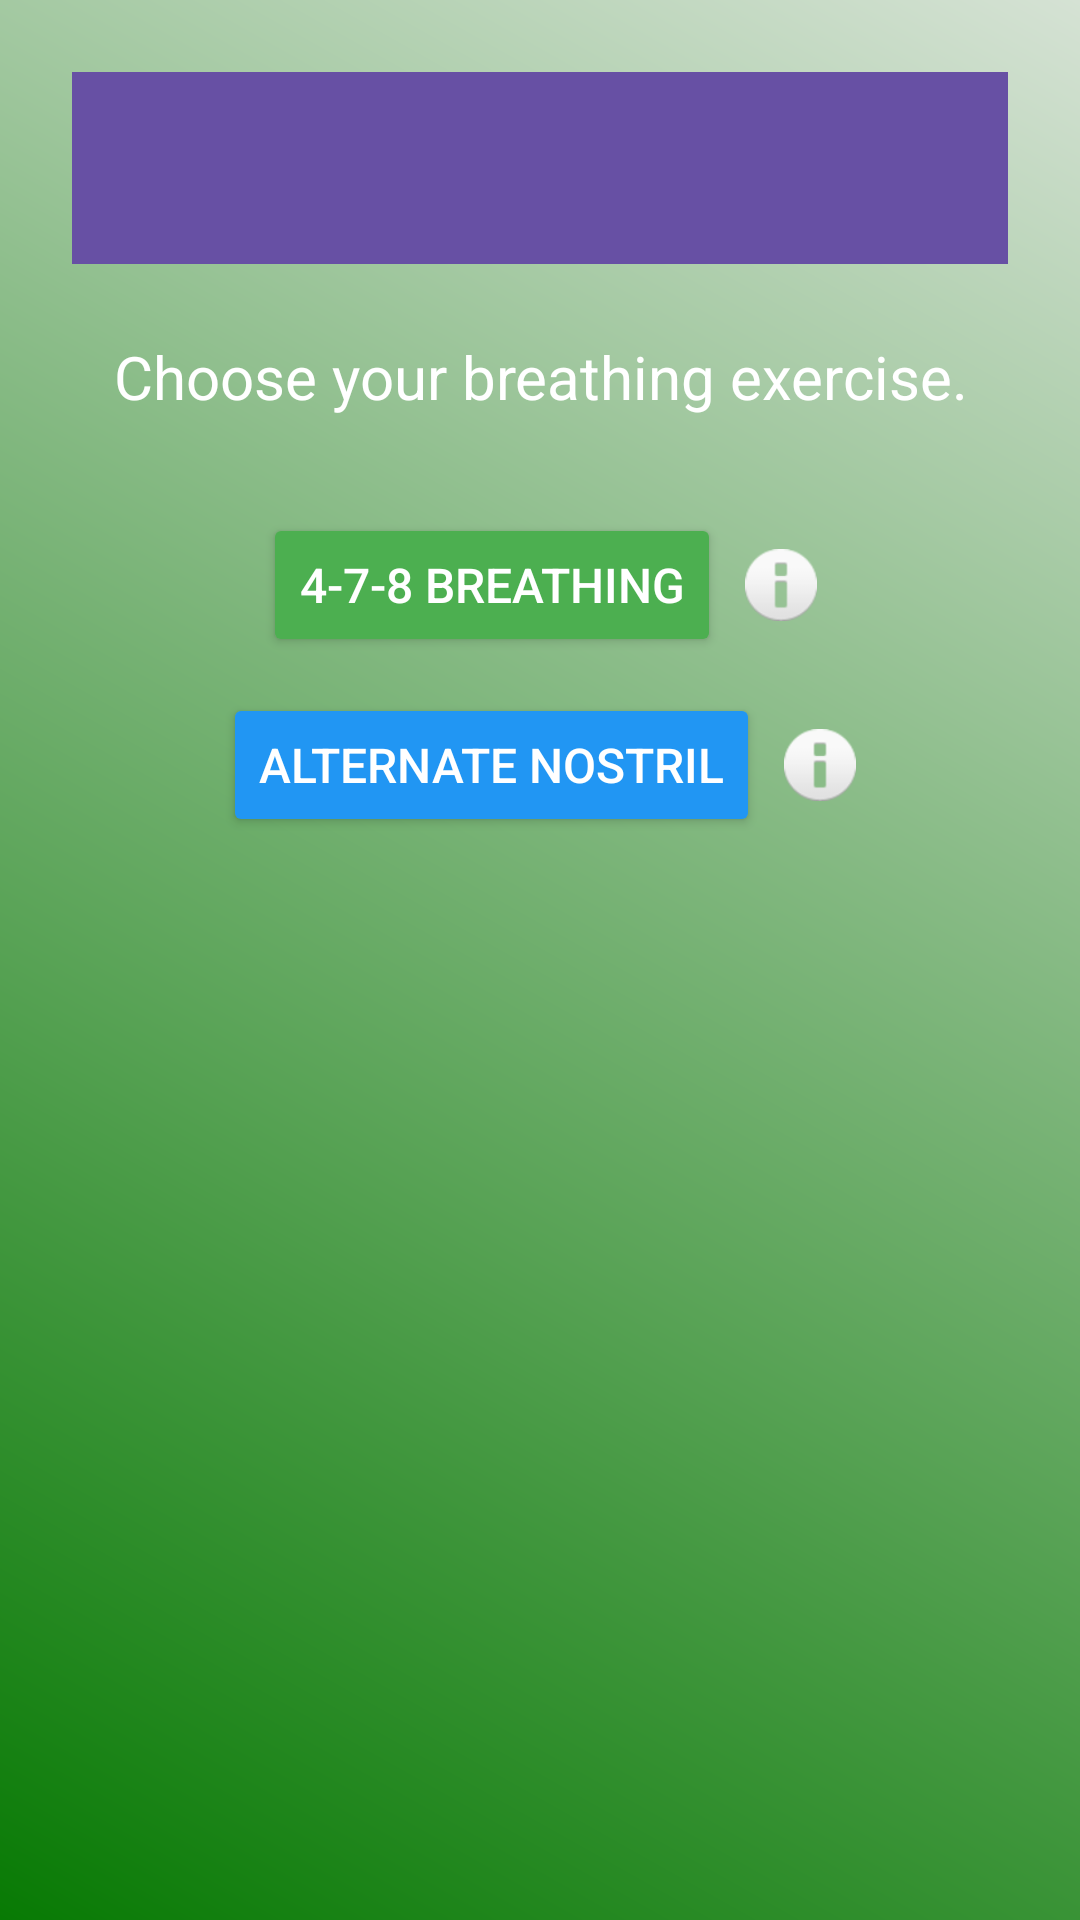

Named icons in this screenshot (1080*1920) and their bounding boxes, [x1,y1,x2,y2]:
Info 4-7-8: [745,549,817,621]
Info Alternate: [784,729,856,801]
